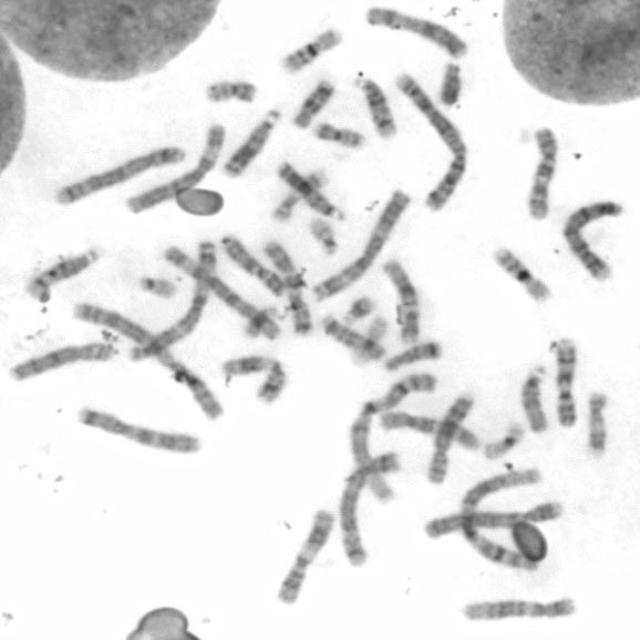A1: (342, 365, 440, 508), (454, 461, 550, 571)
A2: (66, 298, 227, 423), (387, 66, 473, 212)
A3: (307, 184, 412, 302), (123, 234, 219, 363)
B4: (418, 496, 569, 542), (557, 195, 630, 282)
B5: (50, 140, 186, 207), (333, 444, 404, 568)
C10: (375, 406, 483, 453), (522, 120, 562, 223)
C11: (270, 502, 337, 607), (217, 348, 289, 406)
C12: (454, 590, 580, 624), (378, 254, 423, 346)
C6: (157, 239, 285, 341), (121, 116, 228, 216)
C7: (71, 401, 206, 457), (257, 233, 315, 337)
C8: (421, 387, 478, 485), (2, 338, 121, 383)
C9: (216, 228, 287, 299), (547, 333, 581, 429)
D13: (271, 154, 348, 222), (217, 103, 283, 179)
D14: (21, 245, 102, 301), (348, 70, 400, 140)
D15: (314, 309, 390, 363), (515, 360, 551, 434)
E16: (486, 241, 554, 305), (274, 20, 346, 76)
E17: (268, 166, 332, 226), (580, 384, 612, 459)
E18: (286, 75, 338, 132), (381, 336, 444, 372)
F19: (343, 309, 391, 368), (480, 417, 527, 461)
F20: (308, 117, 368, 151), (198, 74, 260, 105)
G21: (240, 306, 294, 342), (337, 290, 378, 326)
G22: (303, 213, 341, 257), (133, 270, 179, 301)
X: (358, 0, 472, 60)
Y: (432, 56, 466, 107)
